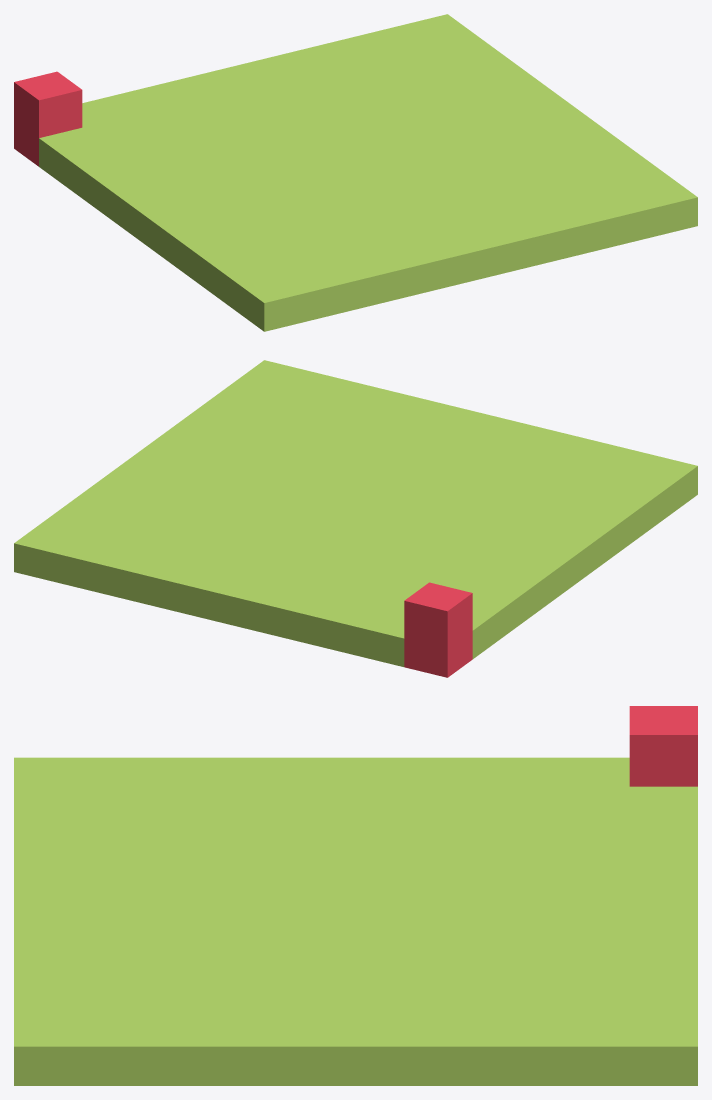
The model's file is innerCorner.dae.
3 views of the same model, one above another, from view 1: azimuth 30°, elevation 25°; view 2: azimuth 150°, elevation 25°; view 3: azimuth 270°, elevation 25° (orthographic). The views are drawn at different scales.
Visible parts, largest first — view 1: innerCorner; view 2: innerCorner; view 3: innerCorner.
Part boxes in pixels (x1,y1,x2,y2): innerCorner: (14, 14, 697, 331); innerCorner: (14, 360, 697, 677); innerCorner: (14, 706, 697, 1085).
Bounding box in the file's own units: 0.9999 × 0.1467 × 0.9999.
